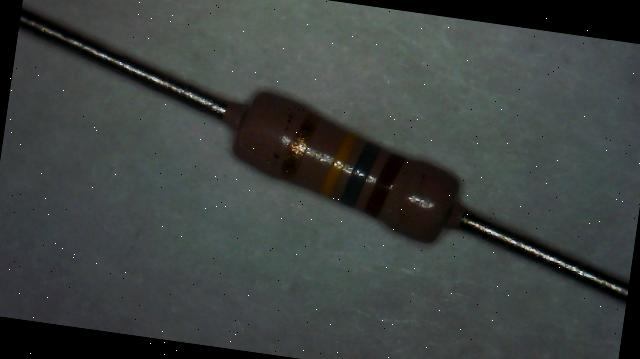brown: (366, 150, 404, 218)
gold: (280, 108, 318, 184)
grey: (340, 138, 380, 208)
resistor: (201, 60, 482, 276)
yellow: (319, 128, 358, 199)
